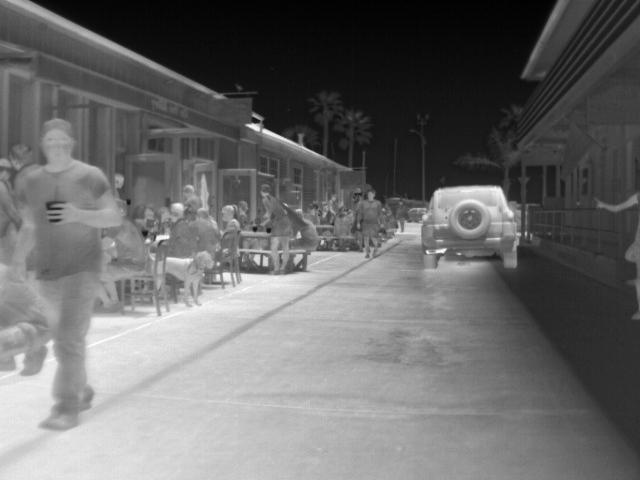car: (422, 182, 522, 270), (408, 206, 427, 223)
dog: (161, 252, 219, 308)
person: (14, 117, 118, 433), (590, 185, 640, 321), (98, 200, 148, 310), (257, 184, 293, 272), (154, 204, 199, 262), (355, 185, 387, 256), (215, 204, 245, 248), (190, 206, 219, 250), (292, 210, 322, 248), (181, 182, 205, 219), (393, 197, 411, 231), (333, 209, 354, 238), (325, 192, 339, 215)
